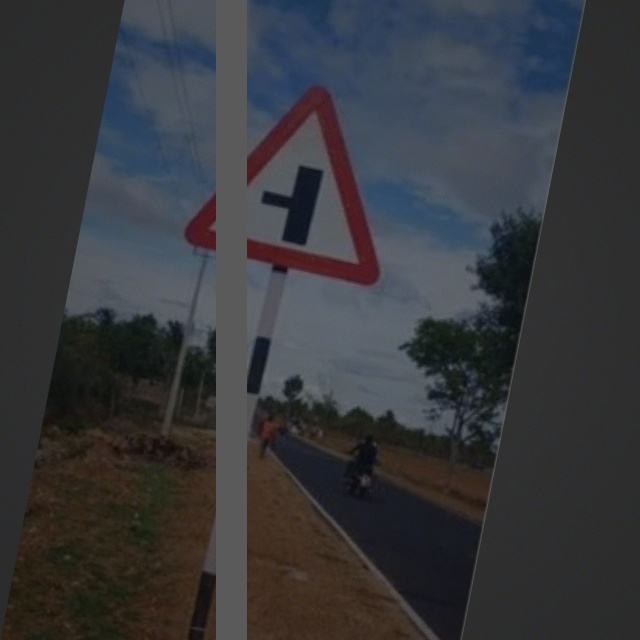Side_Road_Left: (183, 68, 414, 296)
